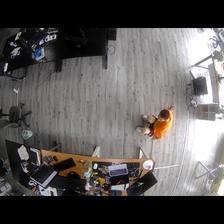fall: (135, 102, 174, 141)
